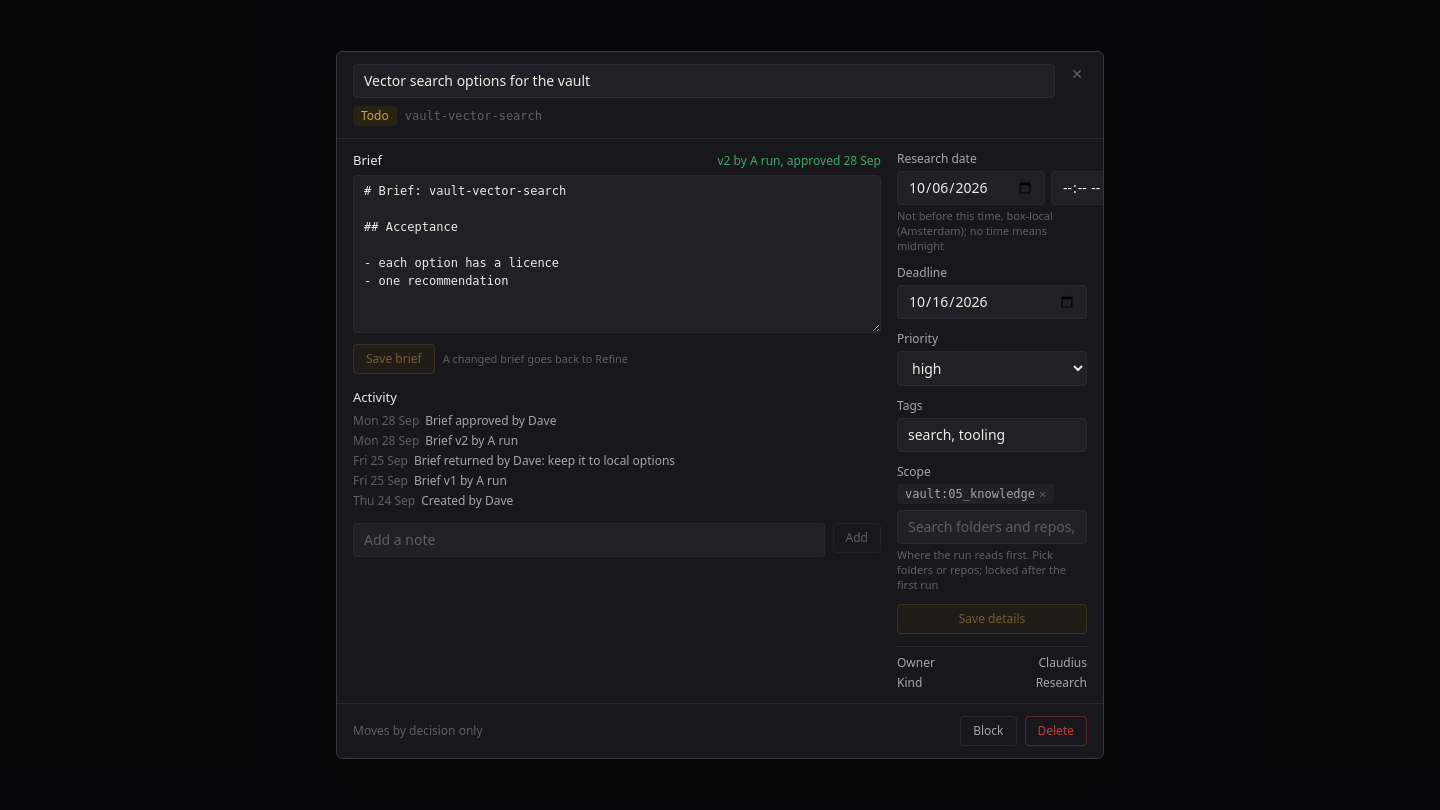
Test: CardDialog, decisions › shows the broker's refusal as it is
The image size is (1440, 810).
Click the button "Block" at [988, 731], box [960,716,1016,746]
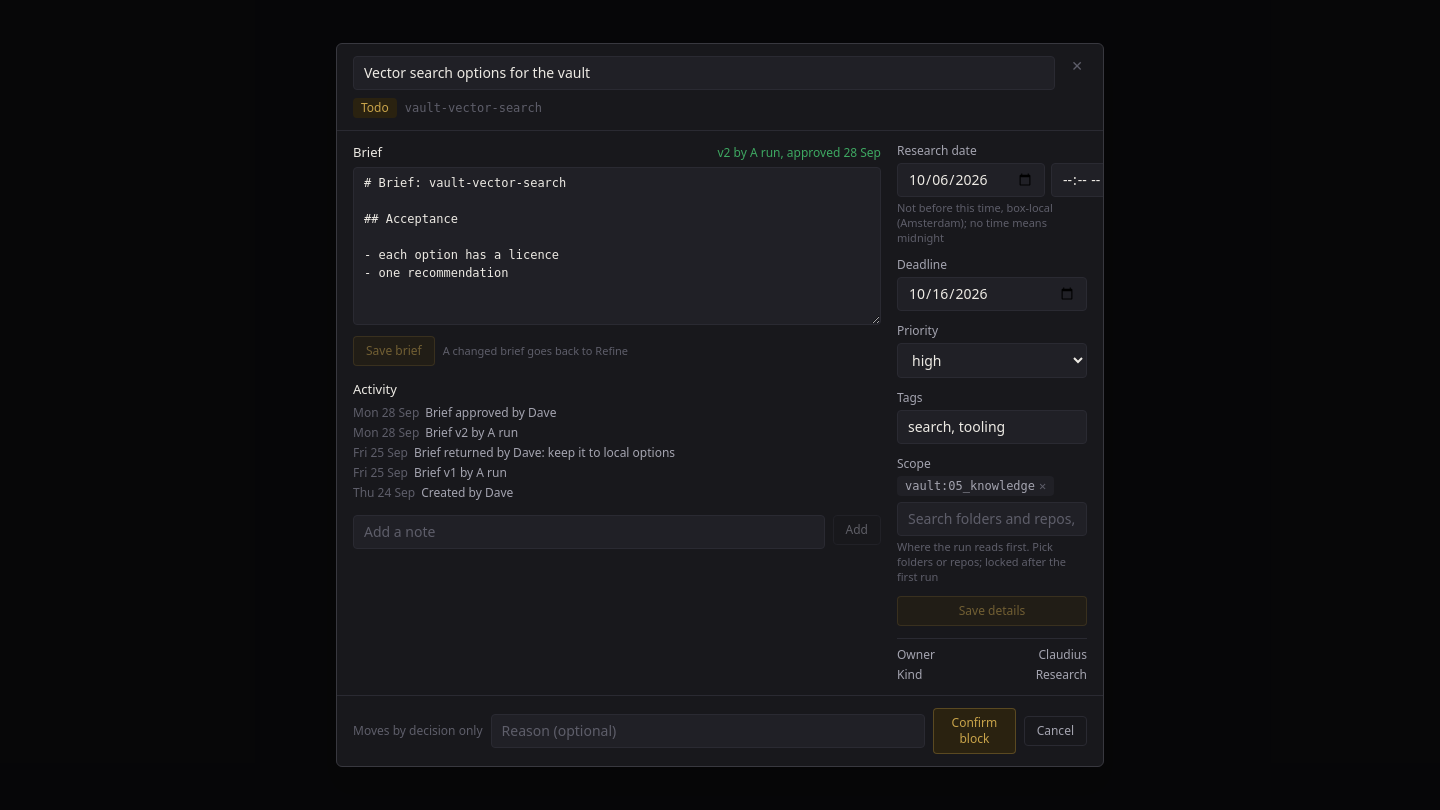
Click the button "Confirm block" at [974, 731], box [933,708,1016,754]
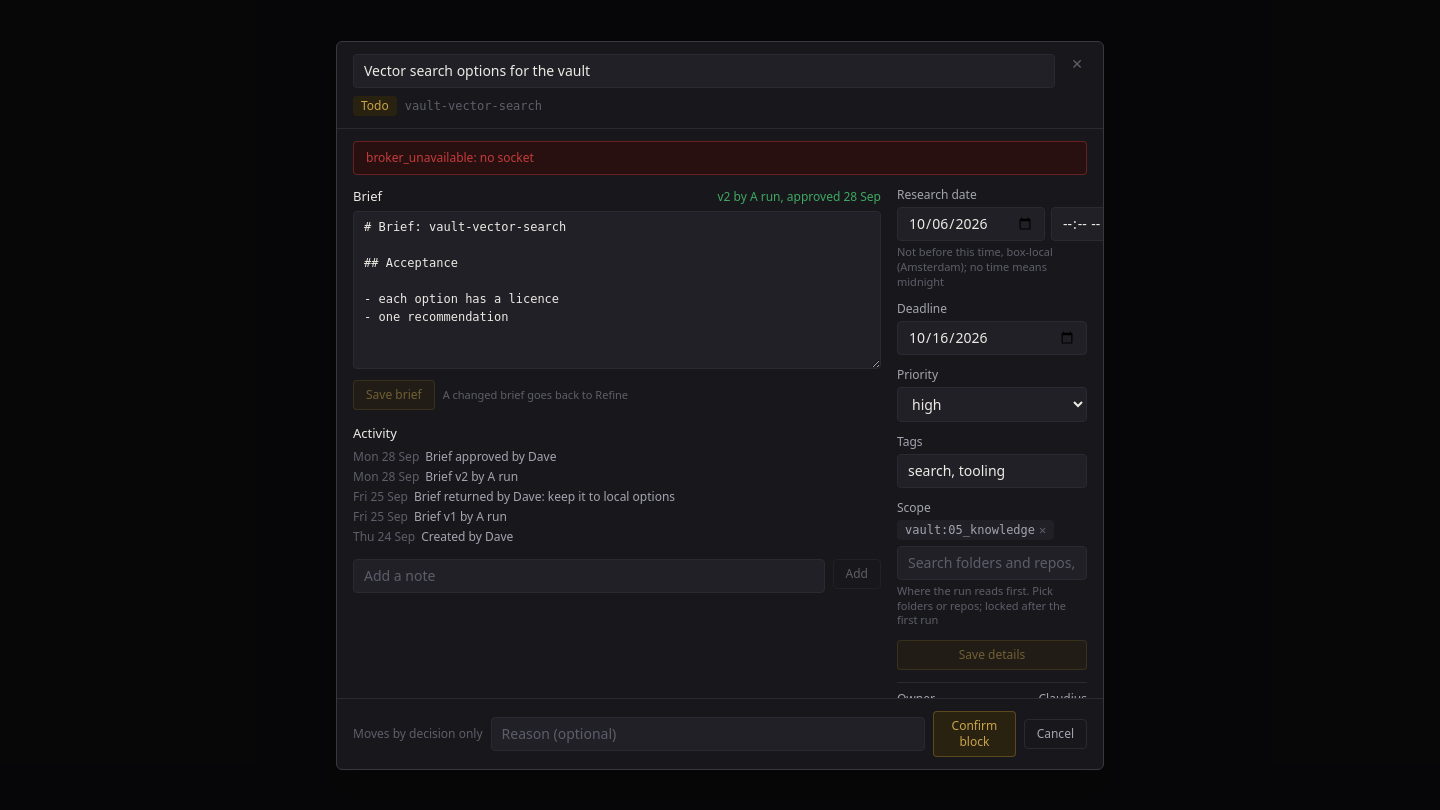
Now the message reads "broker_unavailable: no socket", box [366,148,534,166]
